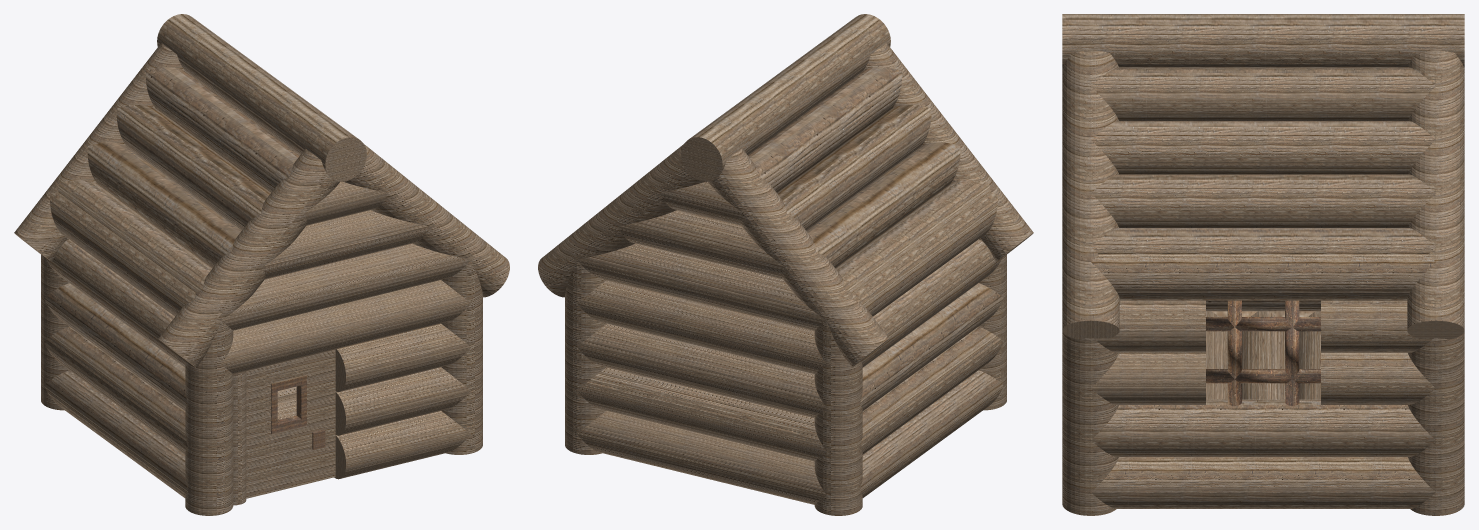
The model's file is house.glb.
The picture shows the model from 3 angles, left to right: view 1: azimuth 30°, elevation 25°; view 2: azimuth 150°, elevation 25°; view 3: azimuth 270°, elevation 25°; orthographic projection. The views are drawn at different scales.
Visible parts, largest first — view 1: Cylinder.003; view 2: Cylinder.003; view 3: Cylinder.003.
Part boxes in pixels (bbox=[...]): Cylinder.003: bbox=[14, 14, 509, 515]; Cylinder.003: bbox=[538, 14, 1033, 515]; Cylinder.003: bbox=[1062, 14, 1464, 515].
Bounding box in the file's own units: 8.24 × 8 × 7.
Materials: 1 (1 with a texture image).
